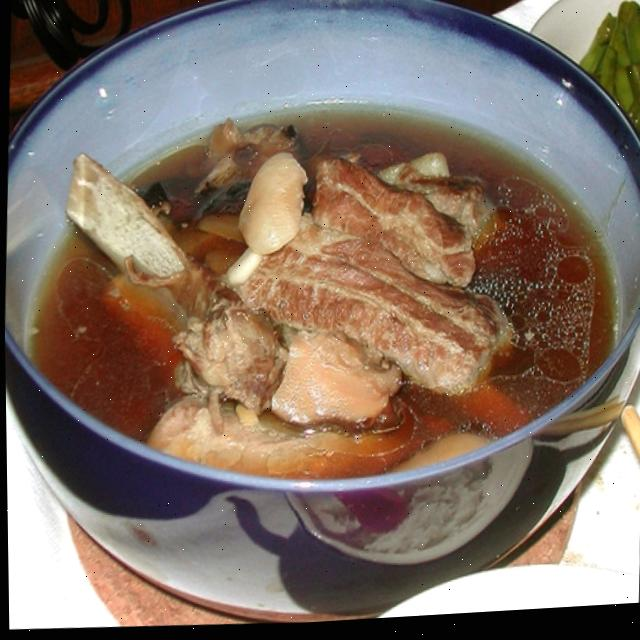汤锅炖物: (1, 56, 629, 528)
